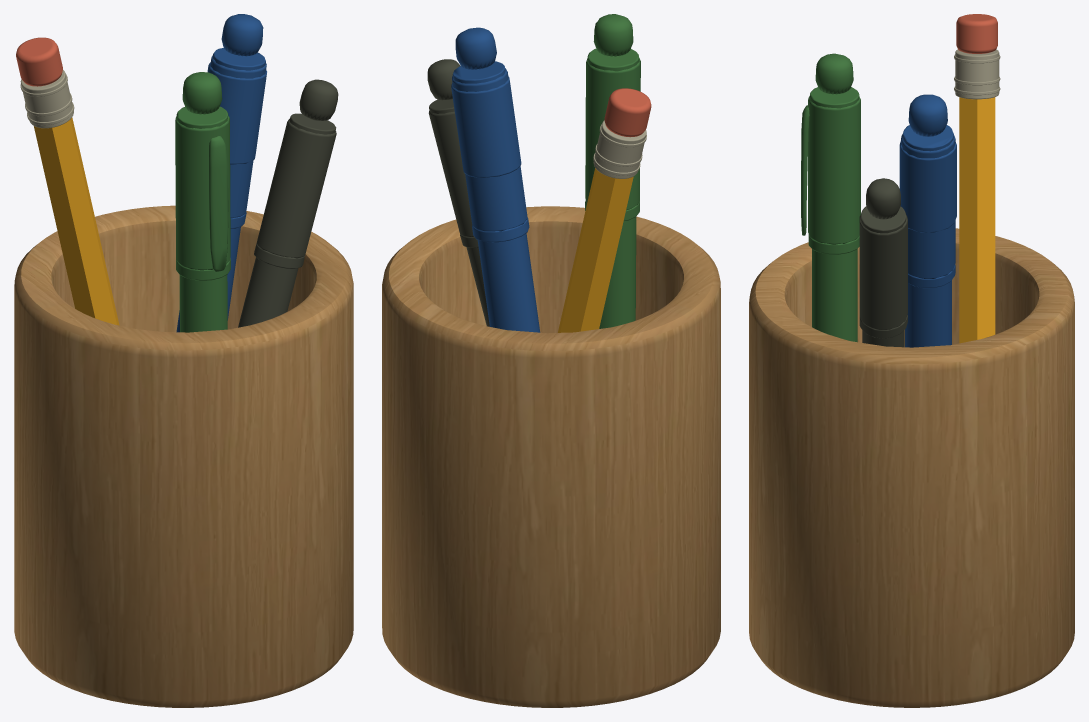
Rendered from pen-cup.glb.
The picture shows the model from 3 angles, left to right: view 1: azimuth 30°, elevation 25°; view 2: azimuth 150°, elevation 25°; view 3: azimuth 270°, elevation 25°; orthographic projection. The views are drawn at different scales.
Visible parts, largest first — view 1: Hollow wooden cup__asset.001, Green pen barrel__asset.001, Charcoal pen barrel__asset.001, Hexagonal pencil barrel__asset.001, Blue pen barrel__asset.001, Ferrule crimp band.001__asset.001, Coral eraser__asset.001; view 2: Hollow wooden cup__asset.001, Blue pen barrel__asset.001, Green pen barrel__asset.001, Hexagonal pencil barrel__asset.001, Charcoal pen barrel__asset.001, Ferrule crimp band.001__asset.001, Coral eraser__asset.001; view 3: Hollow wooden cup__asset.001, Green pen barrel__asset.001, Blue pen barrel__asset.001, Hexagonal pencil barrel__asset.001, Charcoal pen barrel__asset.001, Ferrule crimp band.001__asset.001, Coral eraser__asset.001.
Boxes of the visible parts, x1,y1,x2,y2 form: Hollow wooden cup__asset.001: [14, 205, 353, 707]; Green pen barrel__asset.001: [175, 72, 230, 332]; Charcoal pen barrel__asset.001: [238, 79, 338, 327]; Hexagonal pencil barrel__asset.001: [34, 117, 119, 325]; Blue pen barrel__asset.001: [176, 14, 266, 332]; Ferrule crimp band.001__asset.001: [20, 70, 74, 128]; Coral eraser__asset.001: [16, 37, 62, 86]; Hollow wooden cup__asset.001: [382, 206, 720, 707]; Blue pen barrel__asset.001: [451, 27, 540, 332]; Green pen barrel__asset.001: [585, 14, 640, 328]; Hexagonal pencil barrel__asset.001: [558, 168, 633, 332]; Charcoal pen barrel__asset.001: [427, 59, 489, 326]; Ferrule crimp band.001__asset.001: [593, 120, 646, 178]; Coral eraser__asset.001: [604, 88, 651, 137]; Hollow wooden cup__asset.001: [749, 228, 1074, 707]; Green pen barrel__asset.001: [801, 53, 860, 342]; Blue pen barrel__asset.001: [899, 94, 956, 347]; Hexagonal pencil barrel__asset.001: [959, 97, 995, 343]; Charcoal pen barrel__asset.001: [859, 178, 907, 347]; Ferrule crimp band.001__asset.001: [954, 49, 1000, 99]; Coral eraser__asset.001: [956, 14, 997, 53].
Size of the model in its own units: 0.08 by 0.1568 by 0.08.
9 materials, 1 textured.
